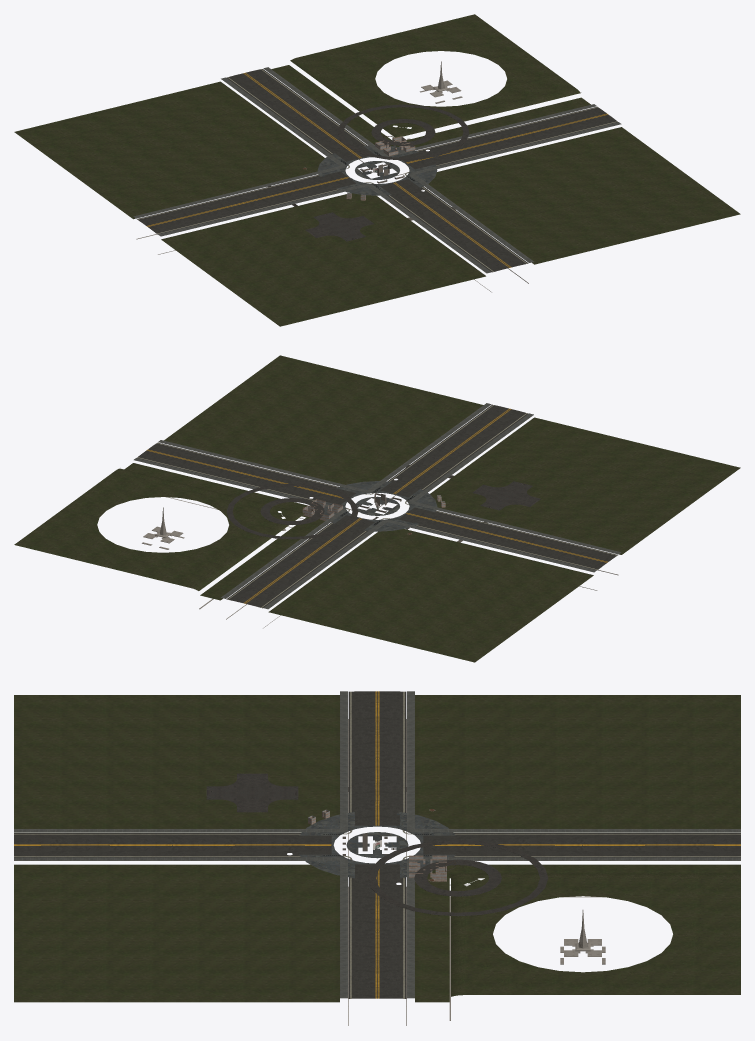
Rendered from american_road_intersection.glb.
3 views of the same model, one above another, from view 1: azimuth 30°, elevation 25°; view 2: azimuth 150°, elevation 25°; view 3: azimuth 270°, elevation 25° (orthographic). The views are drawn at different scales.
Parts seen in each view (by area): view 1: Material2 (×6); view 2: Material2 (×6); view 3: Material2 (×7).
Part boxes in pixels (x1,y1,x2,y2): Material2 (×6): (14, 14, 740, 326); Material2 (×6): (14, 355, 740, 662); Material2 (×7): (14, 691, 740, 1025).
Bounding box in the file's own units: 1.39e+08 × 1.18e+07 × 1.39e+08.
14 materials, 11 textured.
